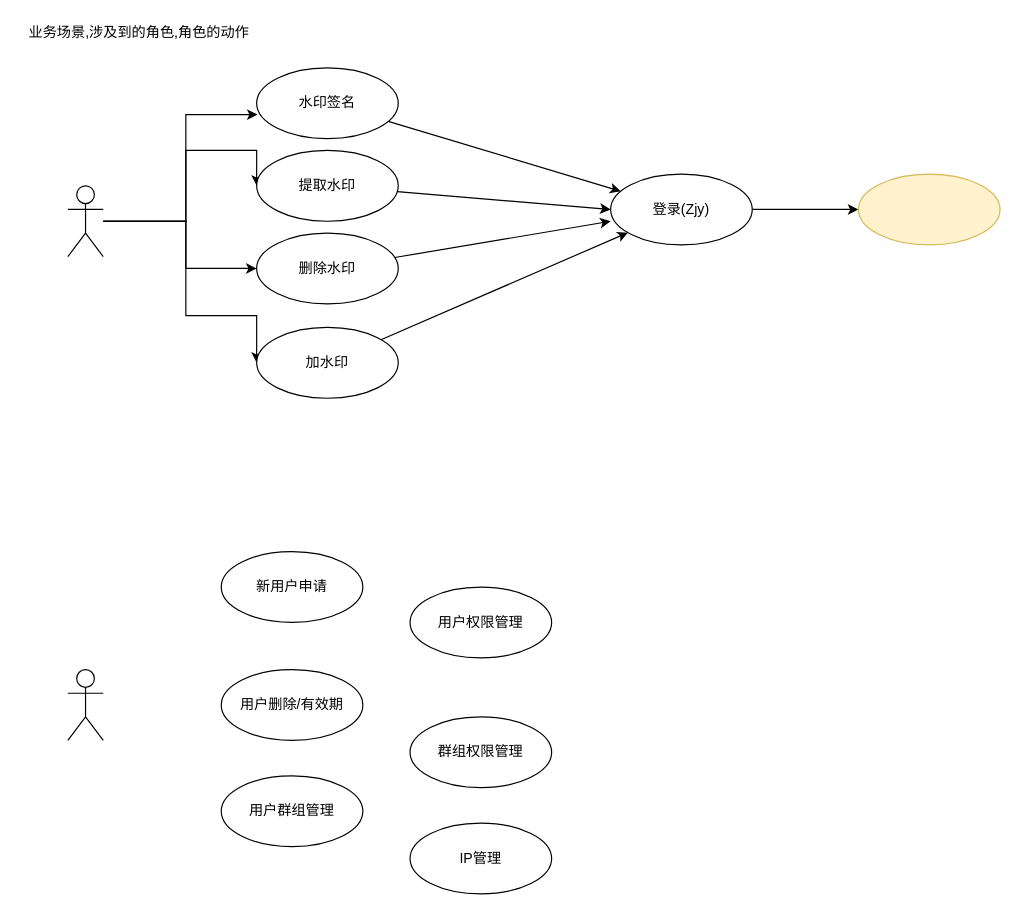
Image size: 1021x914. Some labels were removed from this diagram. Here are the shapes that lost their labels. From the top down, the centre of each, then its label:
At [85,221]: "操作者".
At [928,209]: "上传目标对象".
At [85,704]: "管理者".
